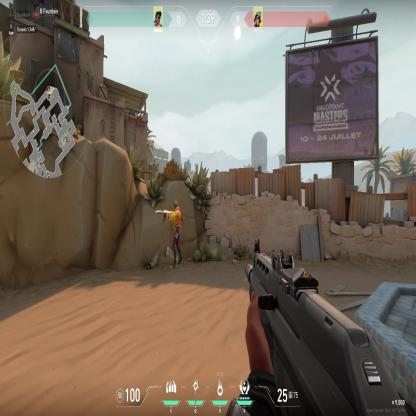enemy: (162, 198, 184, 270)
